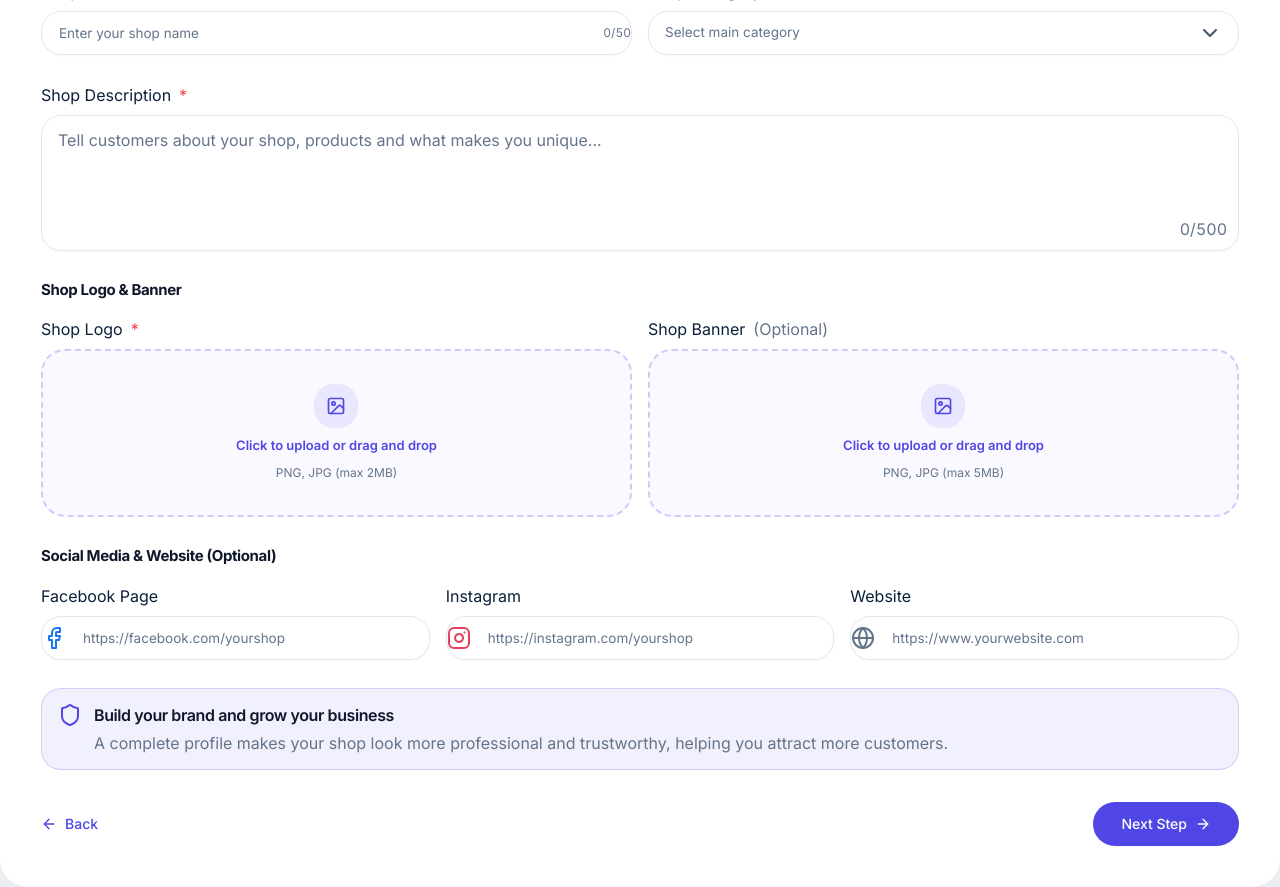
Scenario: SellerRegisterForm shop details › returns to business information from shop details
The width and height of the screenshot is (1280, 887).
(page scrolled)
Click the button "Back". click: x=70, y=824
box: left=41, top=802, right=98, bottom=846
(page scrolled)
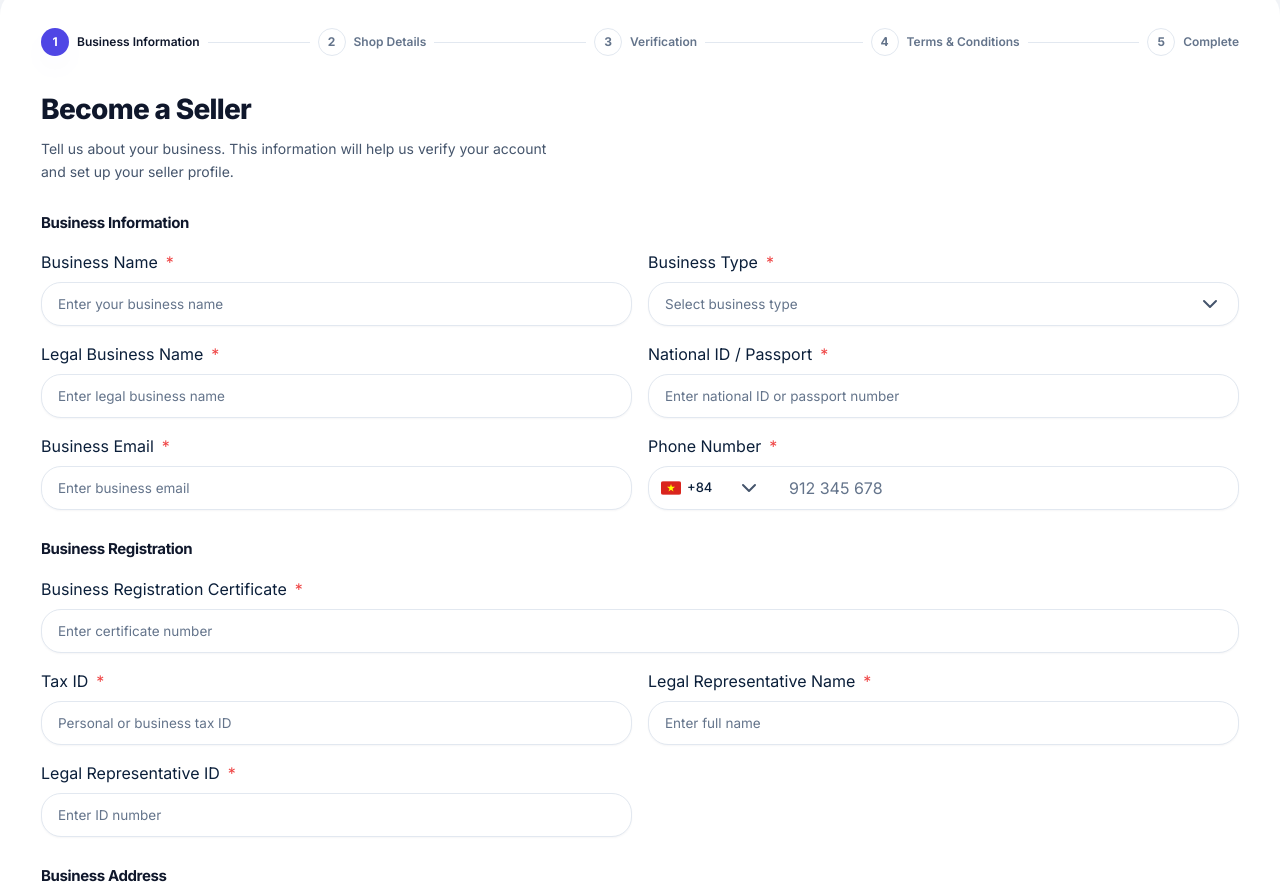
Expected: the heading "Become a Seller" is shown, left=41, top=92, right=251, bottom=126
